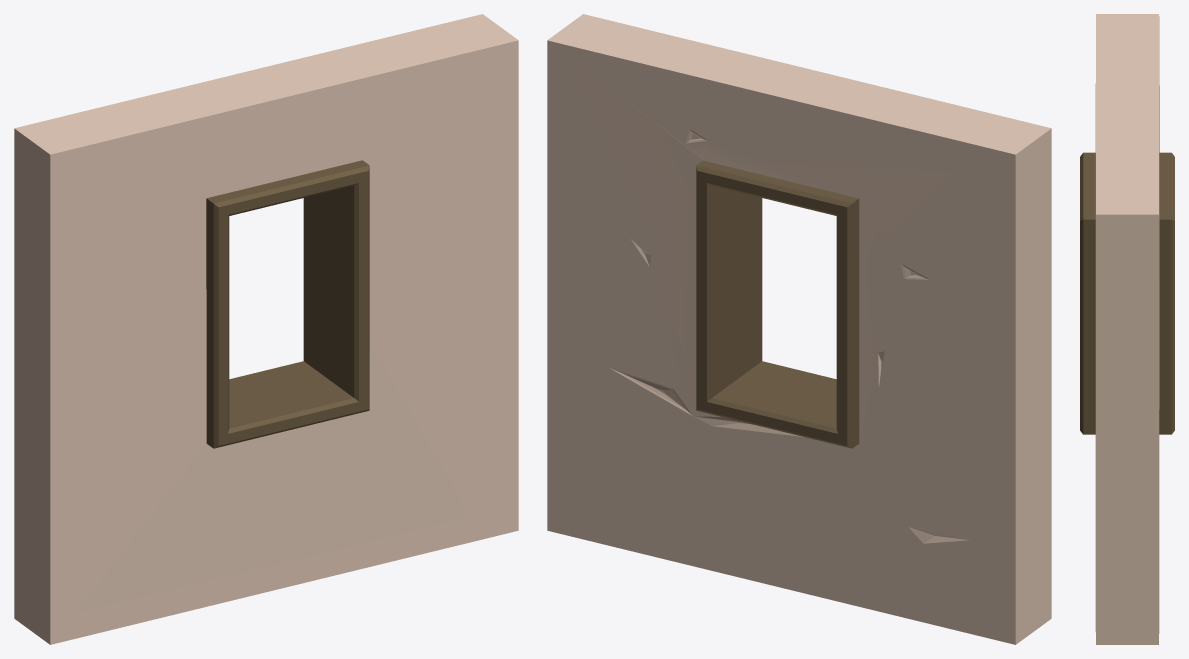
File: greek_wall_2_window.fbx
The picture shows the model from 3 angles, left to right: view 1: azimuth 30°, elevation 25°; view 2: azimuth 150°, elevation 25°; view 3: azimuth 270°, elevation 25°; orthographic projection. The views are drawn at different scales.
Visible parts, largest first — view 1: Cube.077; view 2: Cube.077; view 3: Cube.077.
Boxes of the visible parts, left/top/right/bottom form: Cube.077: left=14, top=14, right=518, bottom=644; Cube.077: left=547, top=14, right=1051, bottom=644; Cube.077: left=1080, top=14, right=1174, bottom=644.
Size of the model in its own units: 300 by 300 by 60.
